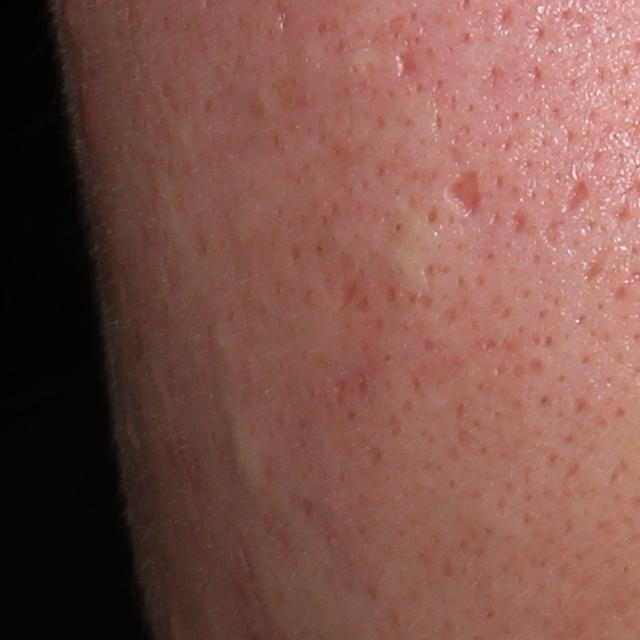atrophic_scar: (446, 166, 484, 219), (561, 177, 592, 218), (395, 47, 417, 79), (493, 5, 512, 36)
hypertrophic_scar: (381, 198, 457, 300), (209, 387, 269, 506)
papule: (74, 92, 102, 145)
